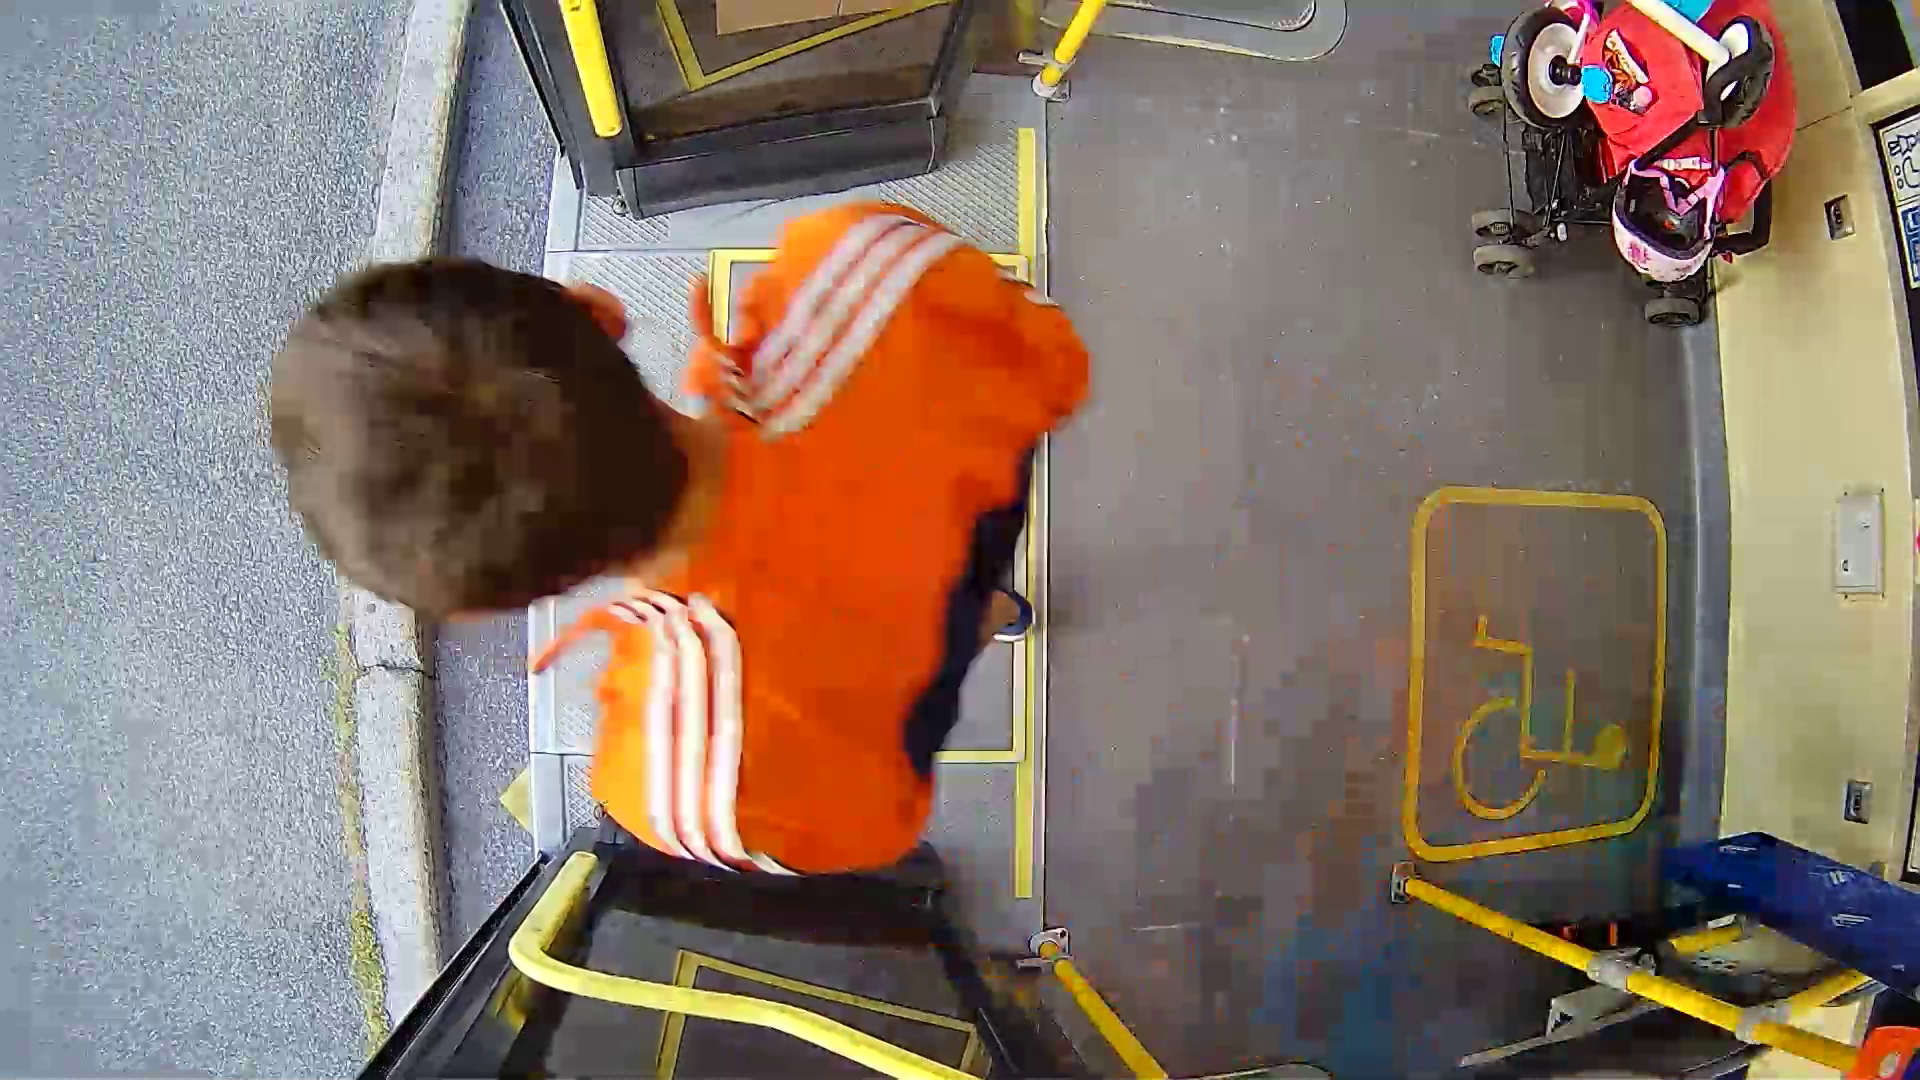person: (307, 155, 1159, 896)
